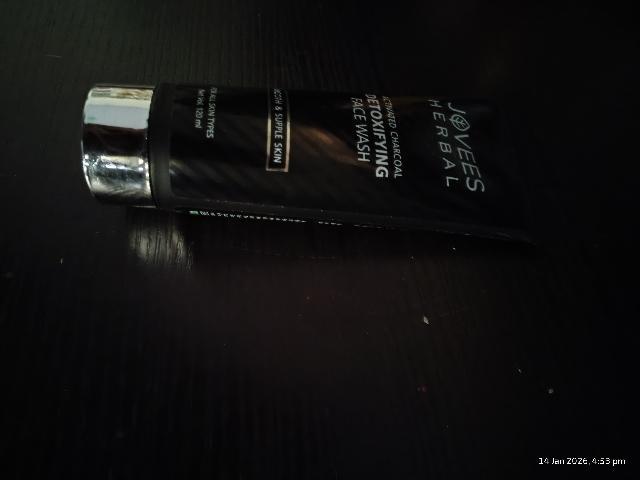jovees herbal: (89, 81, 495, 246)
